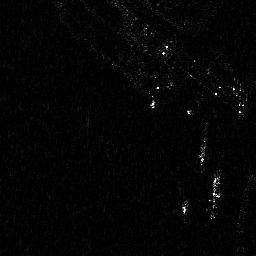ship: (209, 171, 221, 218), (199, 121, 207, 166)
